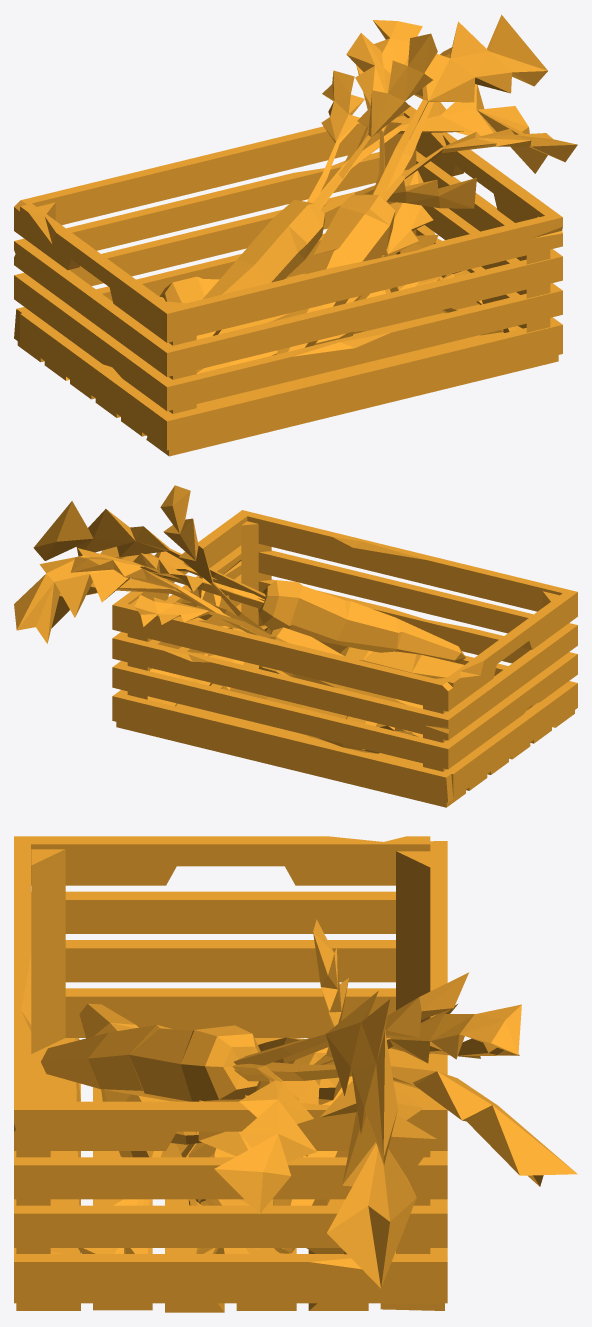
Rendered from SM_Crate_Wood_Medium_Carrots_Few.fbx.
3 views of the same model, one above another, from view 1: azimuth 30°, elevation 25°; view 2: azimuth 150°, elevation 25°; view 3: azimuth 270°, elevation 25° (orthographic). The views are drawn at different scales.
Parts seen in each view (by area): view 1: crate-wood-medium-carrots-few; view 2: crate-wood-medium-carrots-few; view 3: crate-wood-medium-carrots-few.
Boxes of the visible parts, left/top/right/bottom form: crate-wood-medium-carrots-few: left=14, top=14, right=577, bottom=456; crate-wood-medium-carrots-few: left=14, top=485, right=577, bottom=807; crate-wood-medium-carrots-few: left=14, top=836, right=577, bottom=1312.
Size of the model in its own units: 0.7841 by 0.3759 by 0.5285.
